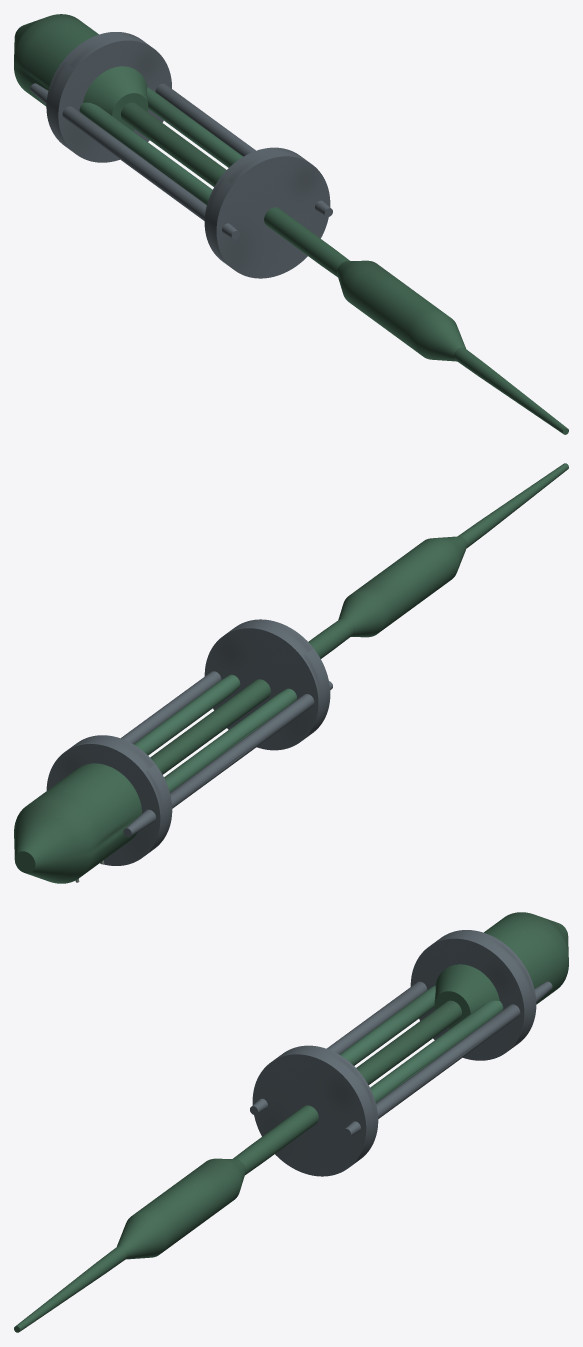
The picture shows the model from 3 angles, top to bottom: view 1: azimuth 30°, elevation 25°; view 2: azimuth 150°, elevation 25°; view 3: azimuth 330°, elevation 25°; orthographic projection.
Parts seen in each view (by area): view 1: Mikotaj Shri-Jaar forward cross collar, Mikotaj Shri-Jaar rear cross collar, Mikotaj Shri-Jaar green forward expansion, Mikotaj Shri-Jaar green rear plug, Mikotaj Shri-Jaar green axial needle, Mikotaj Shri-Jaar grey left guide, Mikotaj Shri-Jaar green left inner rib, Mikotaj Shri-Jaar green right inner rib, Mikotaj Shri-Jaar grey right guide; view 2: Mikotaj Shri-Jaar green rear plug, Mikotaj Shri-Jaar forward cross collar, Mikotaj Shri-Jaar green forward expansion, Mikotaj Shri-Jaar rear cross collar, Mikotaj Shri-Jaar green axial needle, Mikotaj Shri-Jaar grey left guide, Mikotaj Shri-Jaar green left inner rib, Mikotaj Shri-Jaar green right inner rib, Mikotaj Shri-Jaar grey right guide; view 3: Mikotaj Shri-Jaar forward cross collar, Mikotaj Shri-Jaar rear cross collar, Mikotaj Shri-Jaar green forward expansion, Mikotaj Shri-Jaar green rear plug, Mikotaj Shri-Jaar green axial needle, Mikotaj Shri-Jaar grey right guide, Mikotaj Shri-Jaar green right inner rib, Mikotaj Shri-Jaar green left inner rib, Mikotaj Shri-Jaar grey left guide.
Part boxes in pixels (x1,y1,x2,y2): Mikotaj Shri-Jaar forward cross collar: [204, 147, 330, 278]; Mikotaj Shri-Jaar rear cross collar: [46, 32, 171, 162]; Mikotaj Shri-Jaar green forward expansion: [337, 260, 465, 361]; Mikotaj Shri-Jaar green rear plug: [14, 14, 148, 130]; Mikotaj Shri-Jaar green axial needle: [121, 102, 568, 434]; Mikotaj Shri-Jaar grey left guide: [30, 83, 239, 239]; Mikotaj Shri-Jaar green left inner rib: [79, 102, 212, 204]; Mikotaj Shri-Jaar green right inner rib: [147, 87, 243, 167]; Mikotaj Shri-Jaar grey right guide: [155, 83, 332, 216]; Mikotaj Shri-Jaar green rear plug: [14, 763, 141, 883]; Mikotaj Shri-Jaar forward cross collar: [204, 619, 330, 750]; Mikotaj Shri-Jaar green forward expansion: [338, 536, 467, 637]; Mikotaj Shri-Jaar rear cross collar: [46, 735, 172, 865]; Mikotaj Shri-Jaar green axial needle: [19, 463, 568, 868]; Mikotaj Shri-Jaar grey left guide: [123, 681, 332, 837]; Mikotaj Shri-Jaar green left inner rib: [164, 688, 296, 792]; Mikotaj Shri-Jaar green right inner rib: [133, 674, 240, 755]; Mikotaj Shri-Jaar grey right guide: [121, 671, 221, 743]; Mikotaj Shri-Jaar forward cross collar: [252, 1045, 378, 1176]; Mikotaj Shri-Jaar rear cross collar: [410, 930, 536, 1060]; Mikotaj Shri-Jaar green forward expansion: [117, 1158, 245, 1259]; Mikotaj Shri-Jaar green rear plug: [434, 912, 568, 1028]; Mikotaj Shri-Jaar green axial needle: [14, 1000, 461, 1332]; Mikotaj Shri-Jaar grey right guide: [343, 981, 552, 1137]; Mikotaj Shri-Jaar green right inner rib: [370, 1000, 503, 1102]; Mikotaj Shri-Jaar green left inner rib: [339, 985, 435, 1065]; Mikotaj Shri-Jaar grey left guide: [250, 981, 427, 1114].
Bounding box in the file's own units: 0.22 × 0.22 × 1.81.
5 materials, 3 textured.
